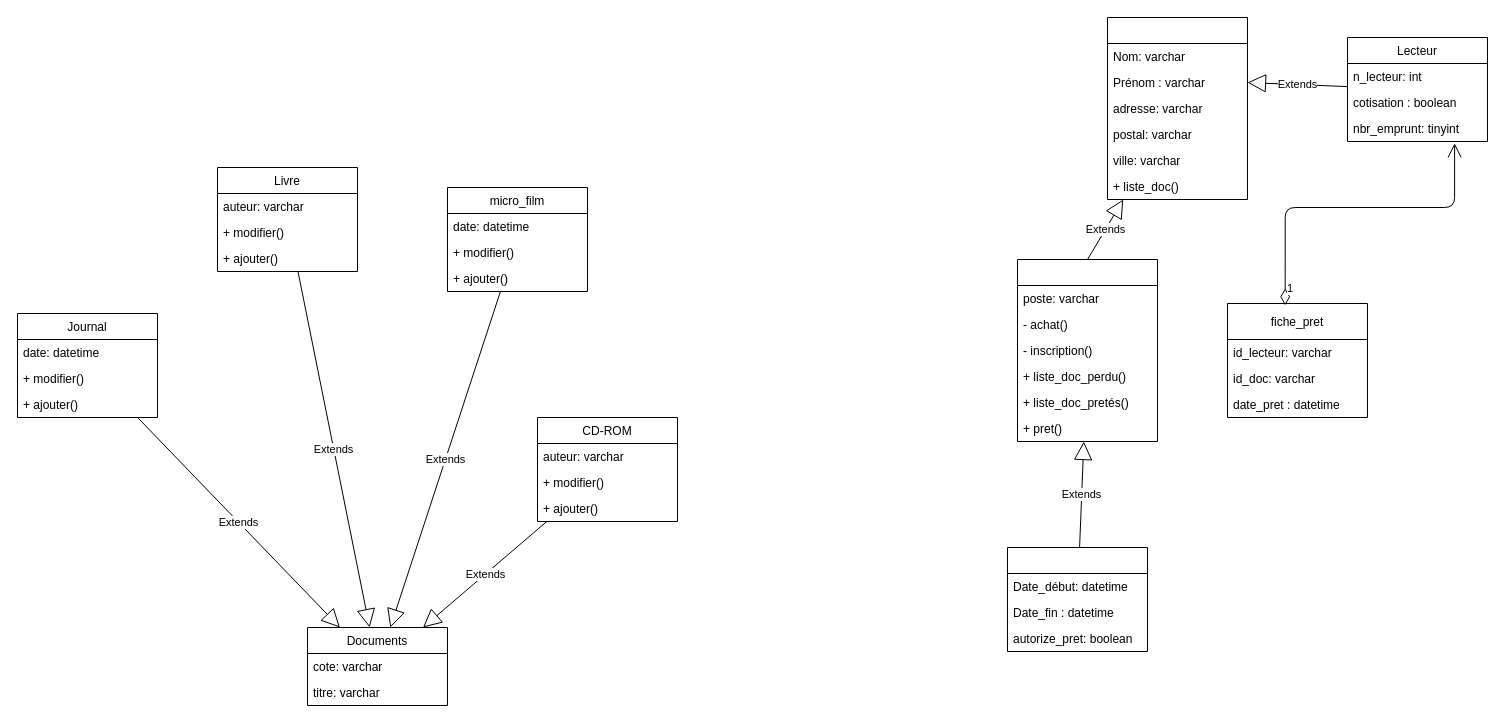
Image size: 1505x726. Some labels were removed from this diagram. Each missing label, with the box of its shape:
Bénévole: (1006, 546, 1148, 652)
Employé: (1016, 258, 1158, 442)
Personnes: (1106, 16, 1248, 200)
